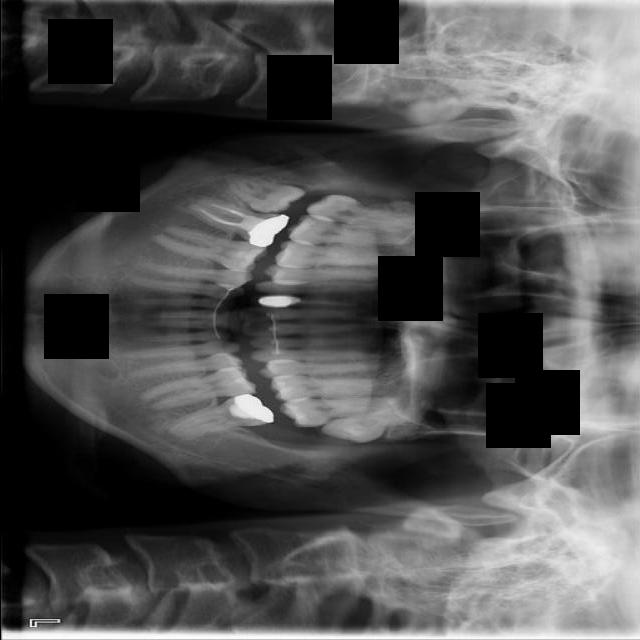3M ESPE Implant: (304, 189, 424, 240)
52: (219, 382, 276, 441), (234, 197, 291, 255), (286, 212, 341, 248), (205, 363, 257, 401), (213, 239, 267, 274), (278, 395, 332, 430), (268, 374, 315, 403), (249, 292, 299, 309)
73: (183, 193, 256, 238), (296, 296, 369, 311), (80, 588, 86, 592)
BioHorizons Implant: (279, 397, 409, 427)
BioLife Implant: (319, 403, 425, 450)
Blue Sky Bio Implant: (162, 390, 274, 441)
Caries: (286, 215, 422, 245)
Implant: (182, 195, 289, 252)
Keystone Dental Implant: (214, 166, 305, 223)
